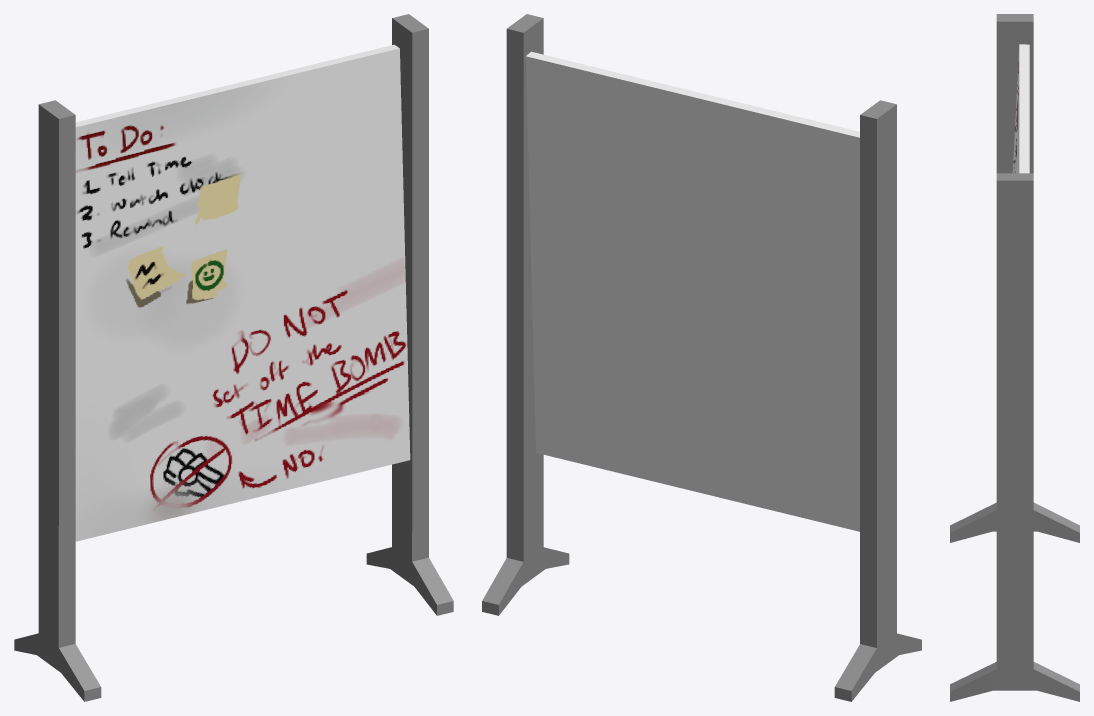
The model's file is whiteboard1.fbx.
3 renders of one model, left to right at view 1: azimuth 30°, elevation 25°; view 2: azimuth 150°, elevation 25°; view 3: azimuth 270°, elevation 25°, orthographic. The views are drawn at different scales.
Parts seen in each view (by area): view 1: whiteboard, whiteboard stand; view 2: whiteboard, whiteboard stand; view 3: whiteboard stand, whiteboard.
Part boxes in pixels (box(x1,y1,x2,y2)): whiteboard: box(75, 44, 410, 541); whiteboard stand: box(14, 14, 453, 701); whiteboard: box(525, 51, 859, 531); whiteboard stand: box(482, 14, 921, 701); whiteboard stand: box(950, 14, 1079, 701); whiteboard: box(1012, 44, 1029, 173).
Size of the model in its own units: 214 by 311 by 70.24.
